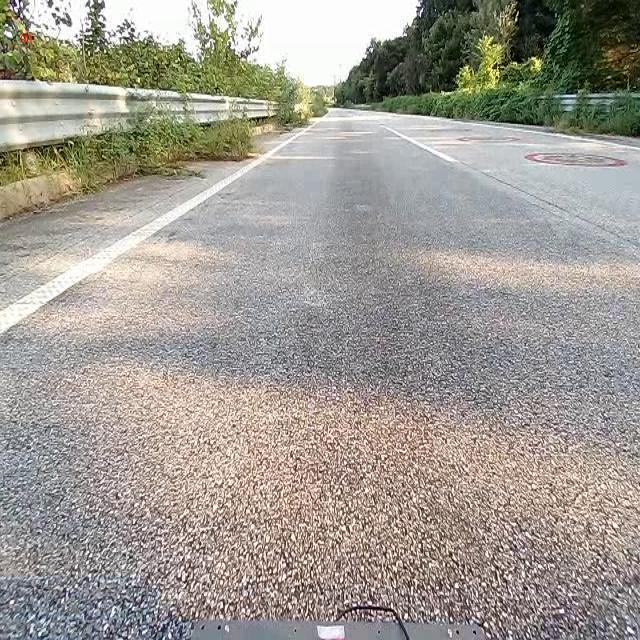Lane: (0, 127, 307, 340), (0, 131, 304, 335), (380, 113, 640, 302), (380, 123, 639, 257)
